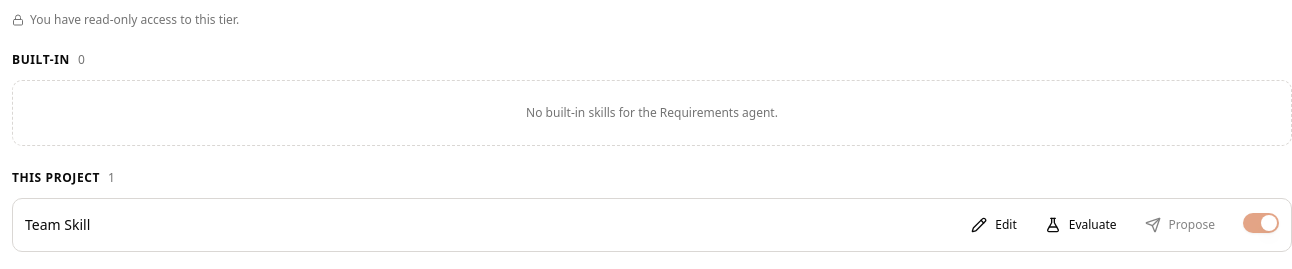
Test: SkillsTab cascade awareness › keeps Propose disabled when Evaluate returns fail
Click the button "Evaluate". click: (1081, 225)
box: [1033,209,1129,241]
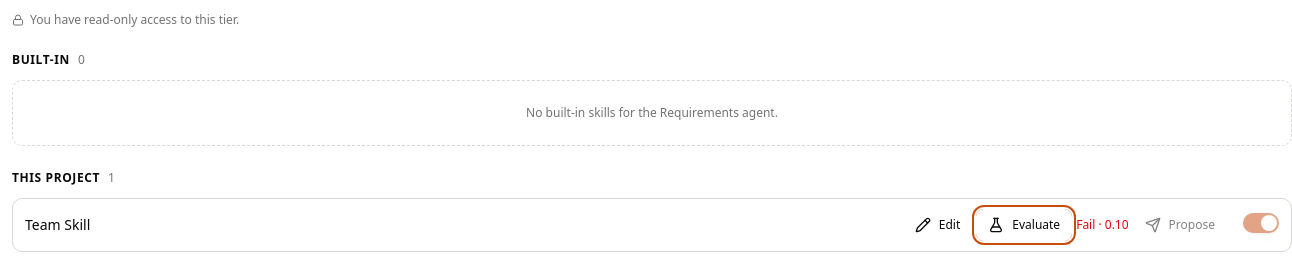
Expected: the button "Propose" is disabled, [1133,209,1227,241]
Result: the text "Fail · 0.10" is shown at [1076,217,1129,233]
